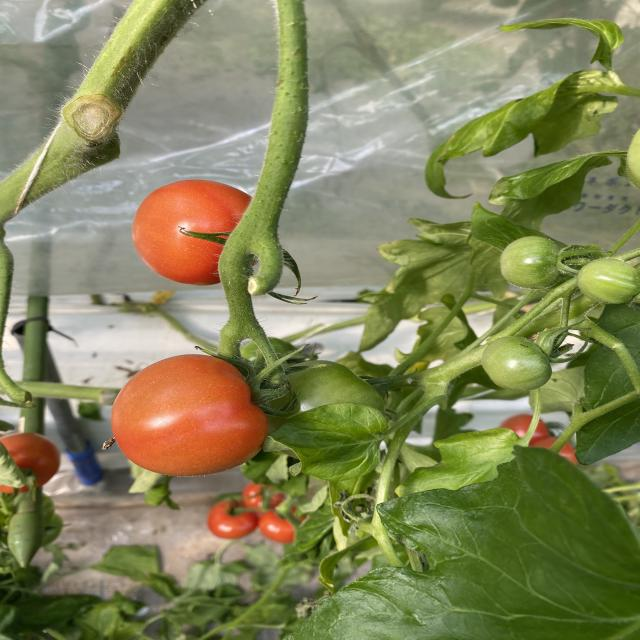c-riped: (110, 354, 270, 477), (131, 179, 254, 286), (1, 432, 63, 494)
c-unriped: (265, 365, 386, 433), (481, 335, 553, 391), (501, 236, 562, 290), (576, 256, 639, 304)
